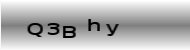3: (46, 22, 59, 35)
B: (61, 24, 76, 39)
Q: (26, 22, 43, 38)
h: (87, 18, 101, 31)
y: (104, 23, 119, 37)
